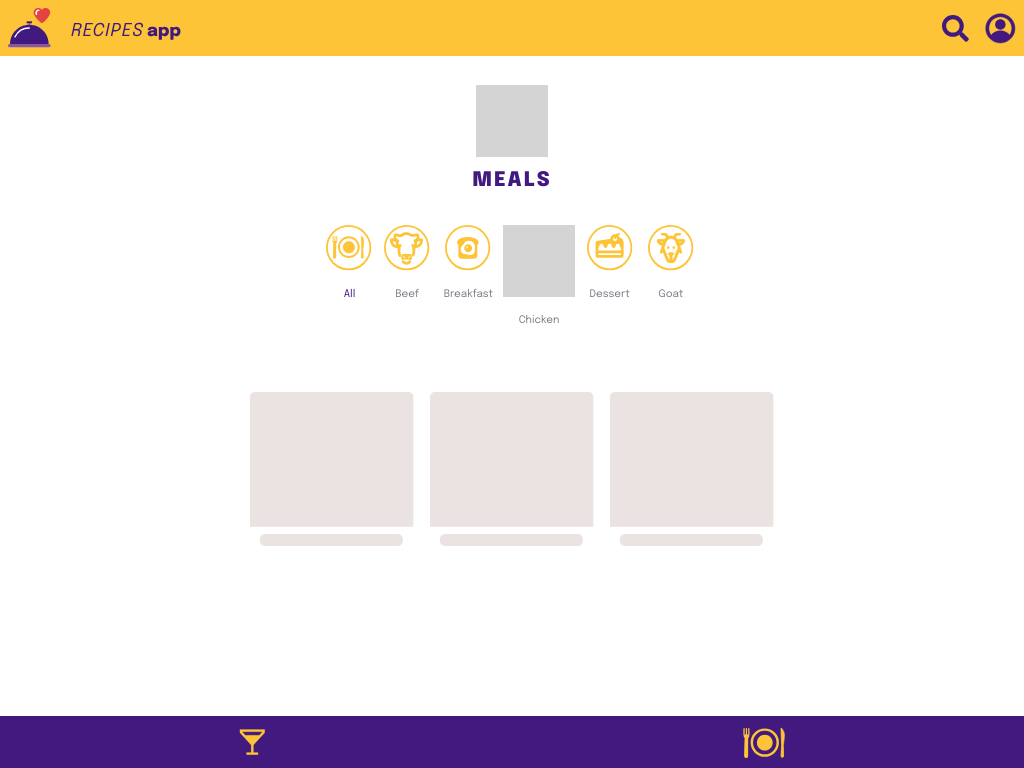
Test case: Testes do componente SearchBar › Verifica se a busca por somente a primeira letra funciona
Click the button with test id "search-top-btn": (956,28) [942, 14, 969, 42]
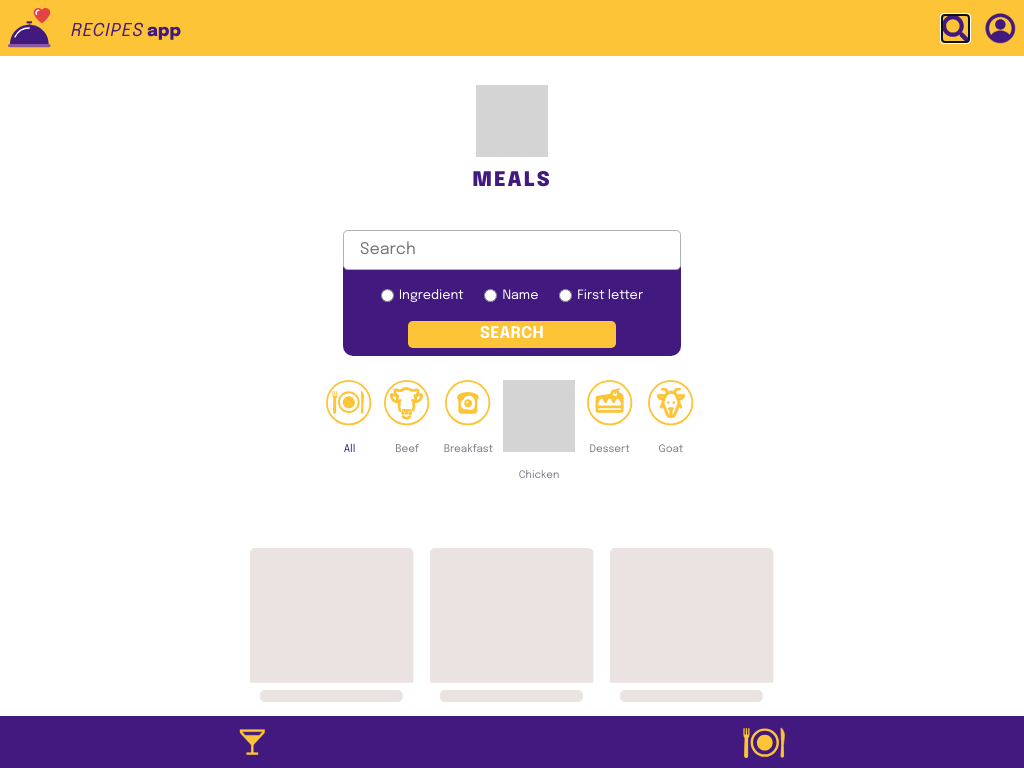
In the field with test id "search-input": (512,250) [343, 230, 681, 270], type "C"
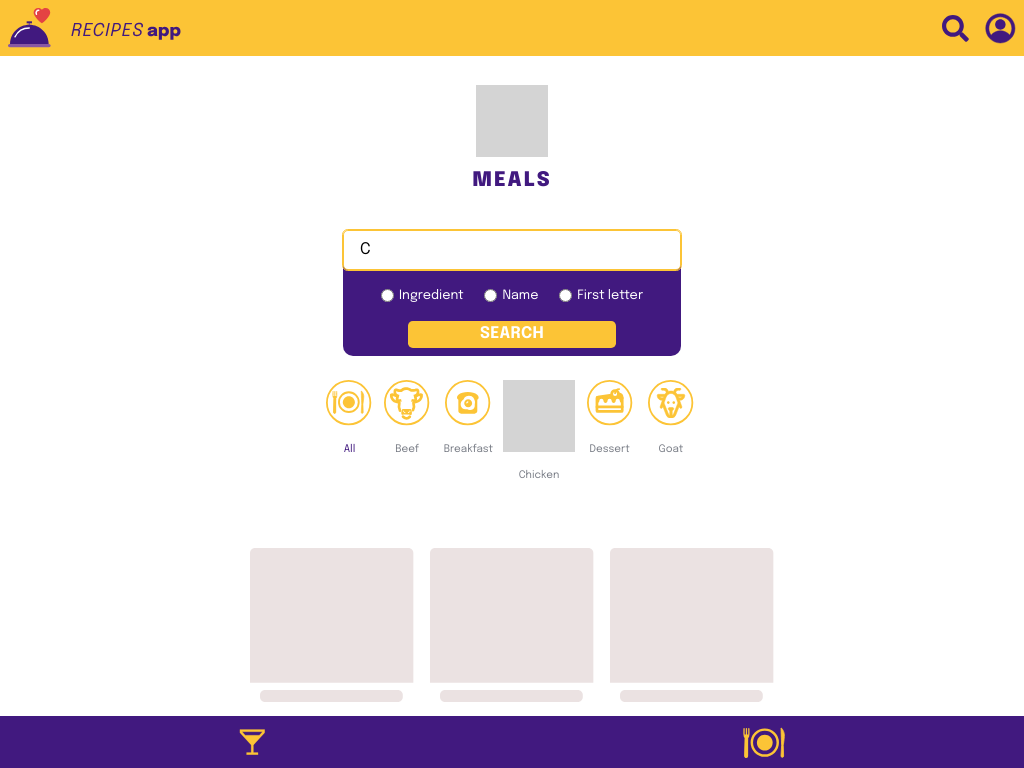
Click the radio button with test id "first-letter-search-radio": (566,295) [559, 289, 572, 302]
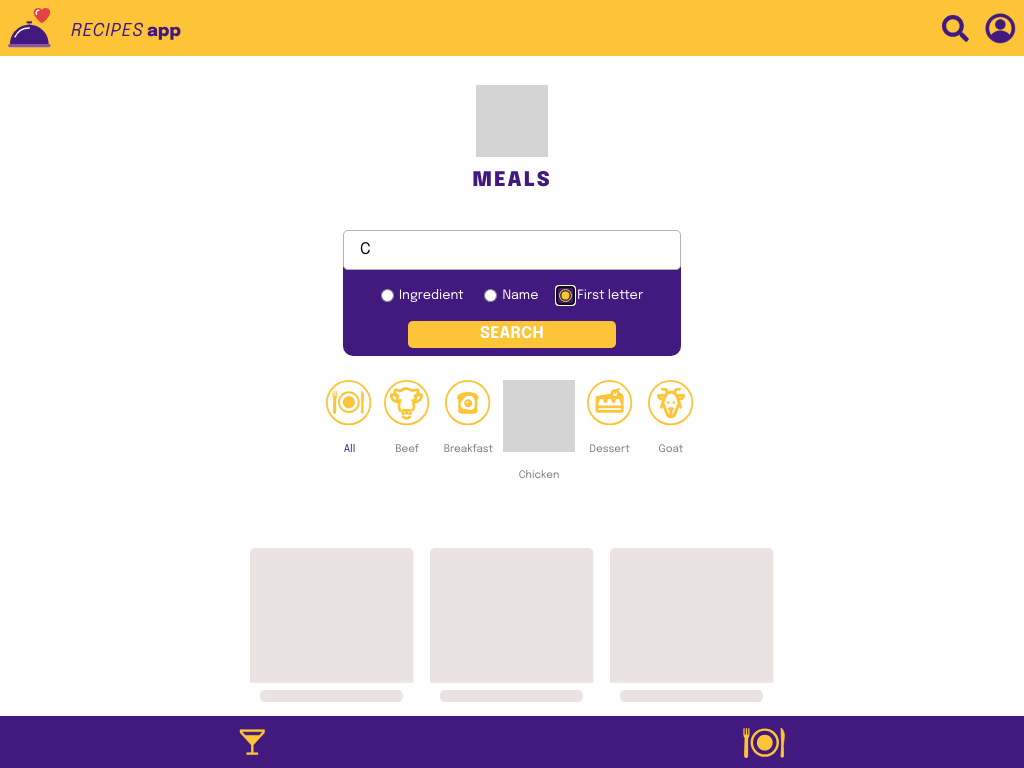
Click the button with test id "exec-search-btn": (512,334) [408, 321, 616, 348]
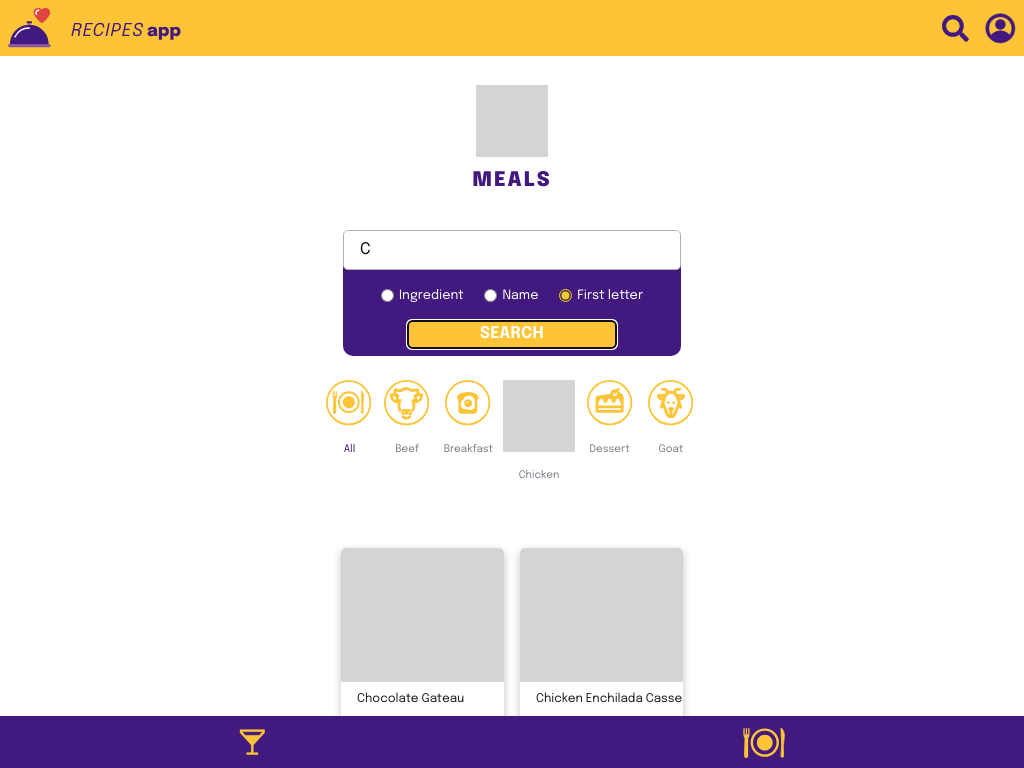
Now the text "Chocolate Gateau" is shown, box [341, 690, 464, 708]
